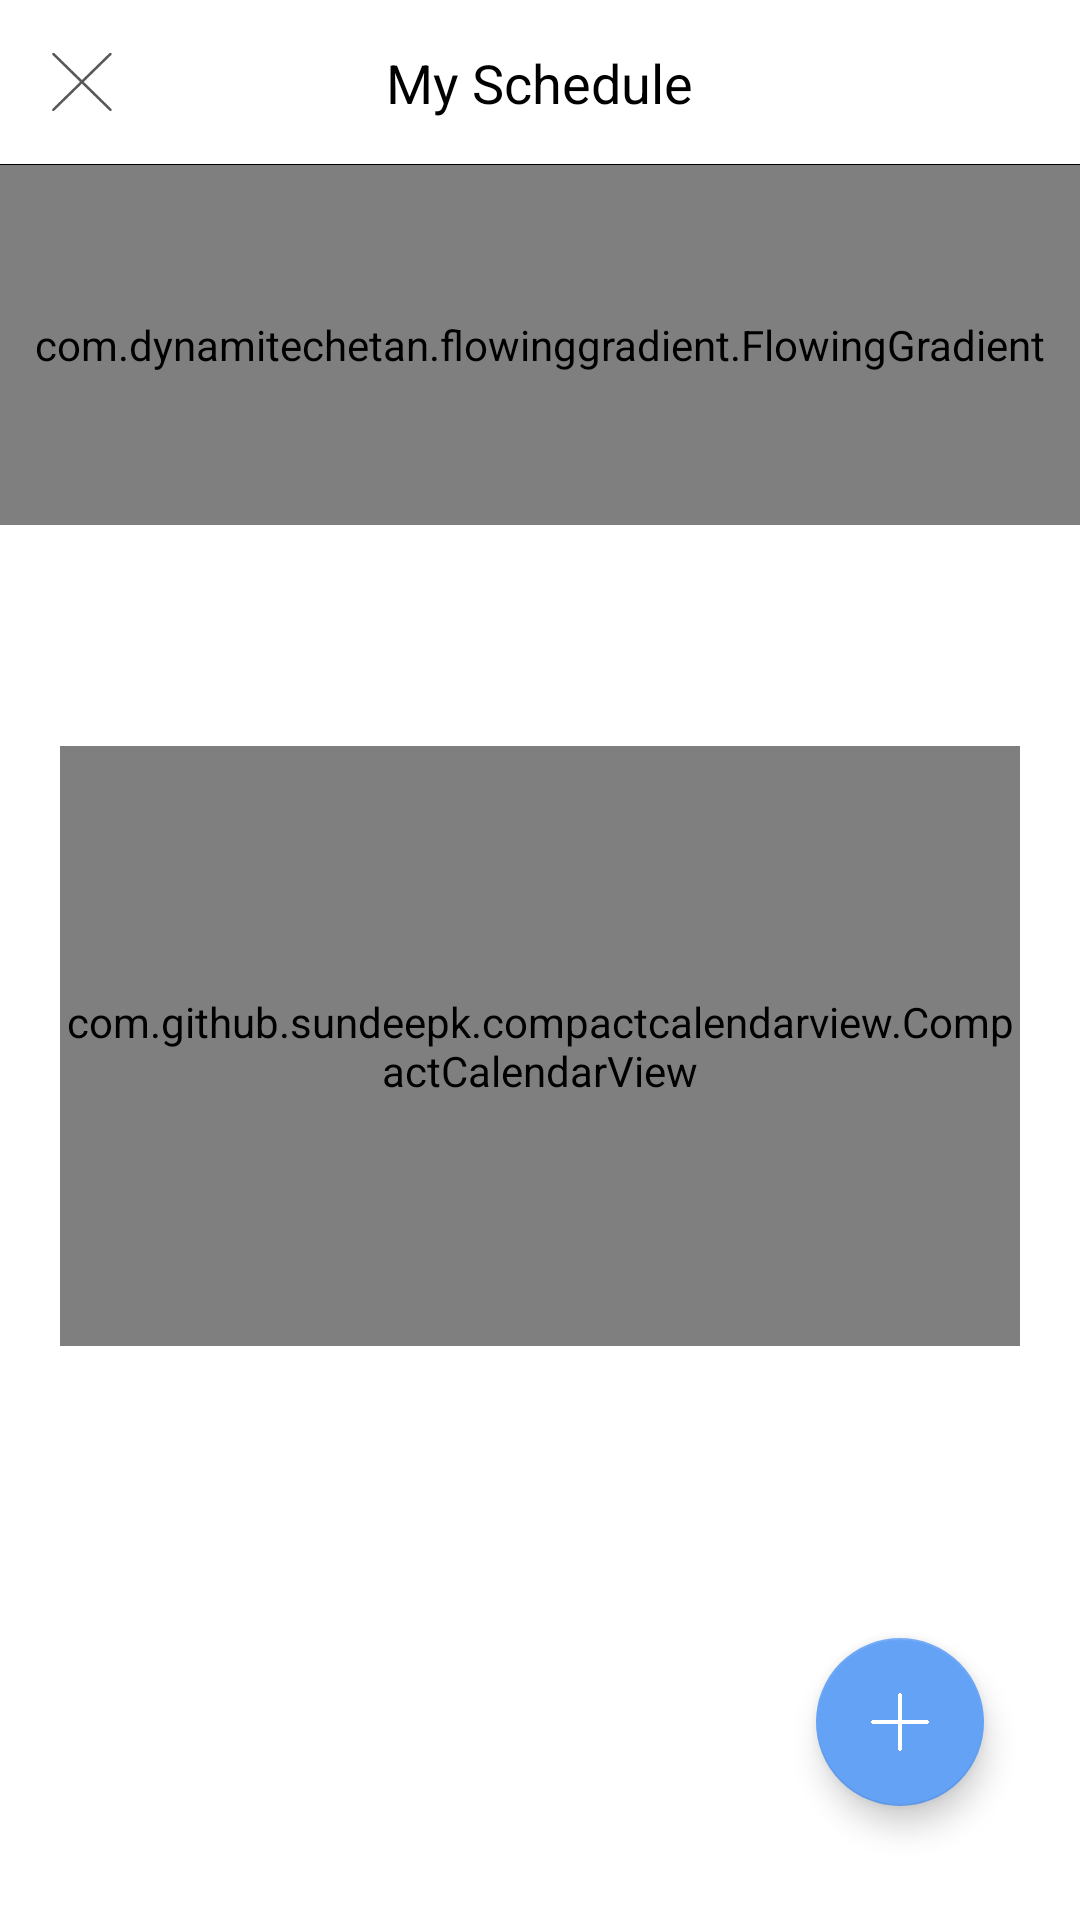

Icons on this 1080 x 1920 Android screen, each with the point to tap as point (x, y):
plus: point (901, 1730)
